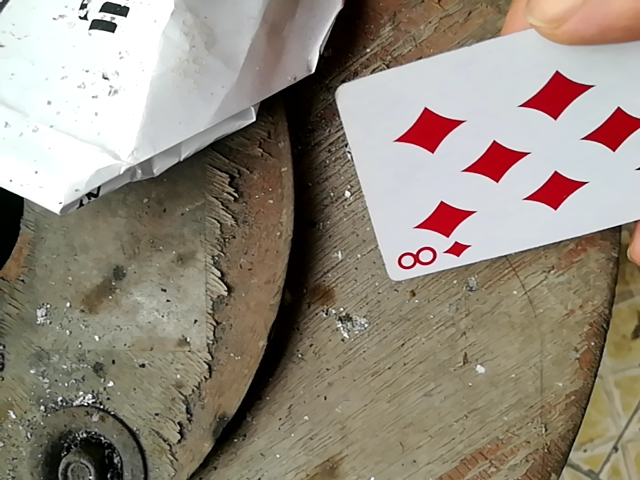fk 8: (333, 23, 640, 278)
